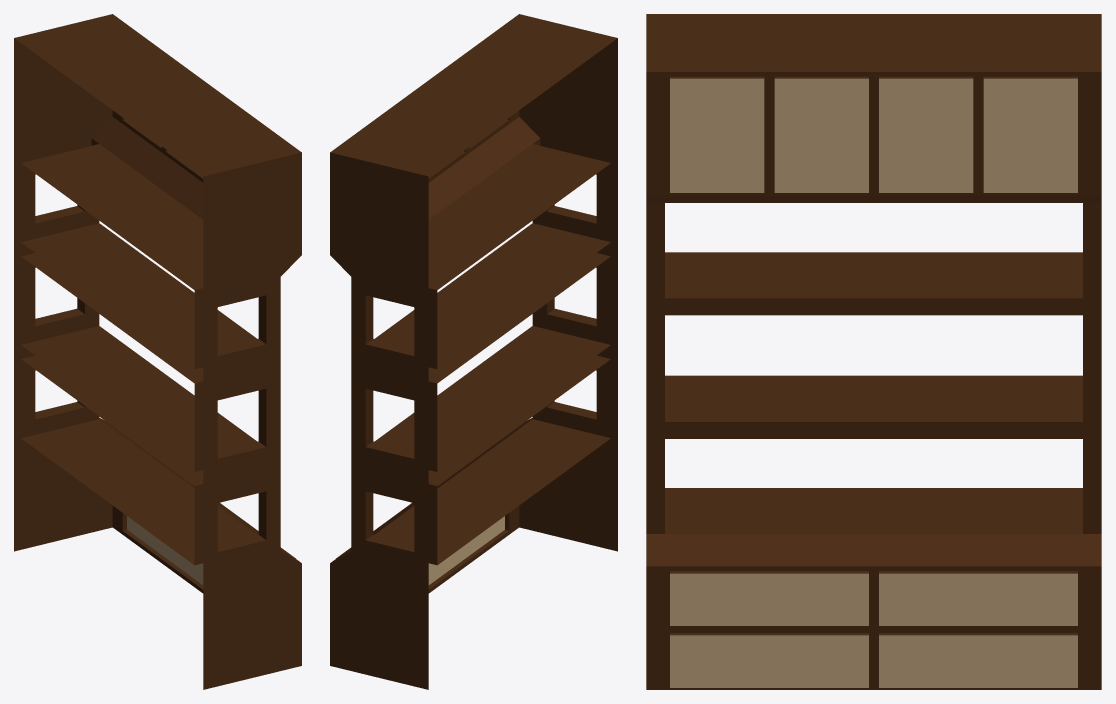
The model's file is HQ_Shelf.fbx.
3 renders of one model, left to right at view 1: azimuth 30°, elevation 25°; view 2: azimuth 150°, elevation 25°; view 3: azimuth 270°, elevation 25°, orthographic. The views are drawn at different scales.
Visible parts, largest first — view 1: HQ_Shelf; view 2: HQ_Shelf; view 3: HQ_Shelf.
Part boxes in pixels (x1,y1,x2,y2): HQ_Shelf: [14, 14, 301, 689]; HQ_Shelf: [330, 14, 617, 689]; HQ_Shelf: [646, 14, 1101, 689].
Bounding box in the file's own units: 2.38 × 11.25 × 7.51.
